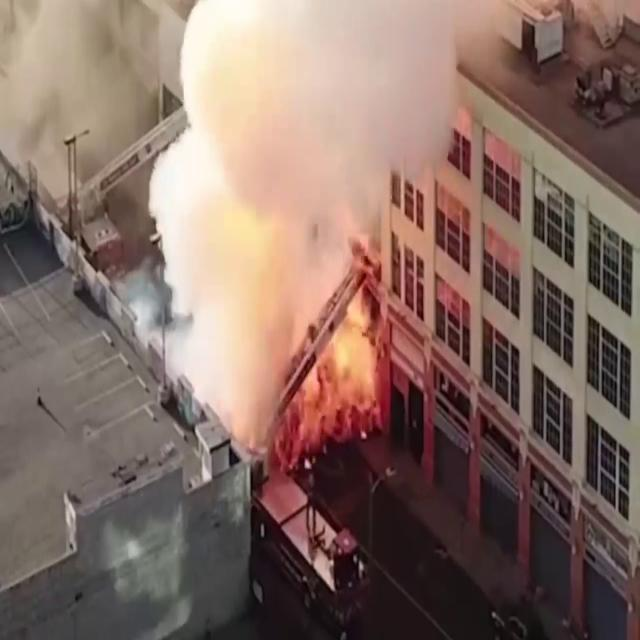Smoke: (147, 0, 461, 453)
